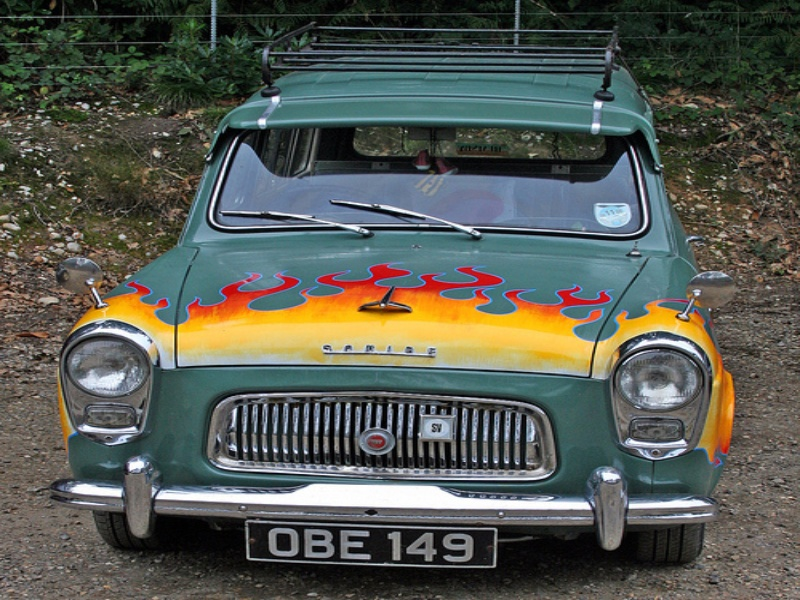car: (48, 22, 736, 568)
